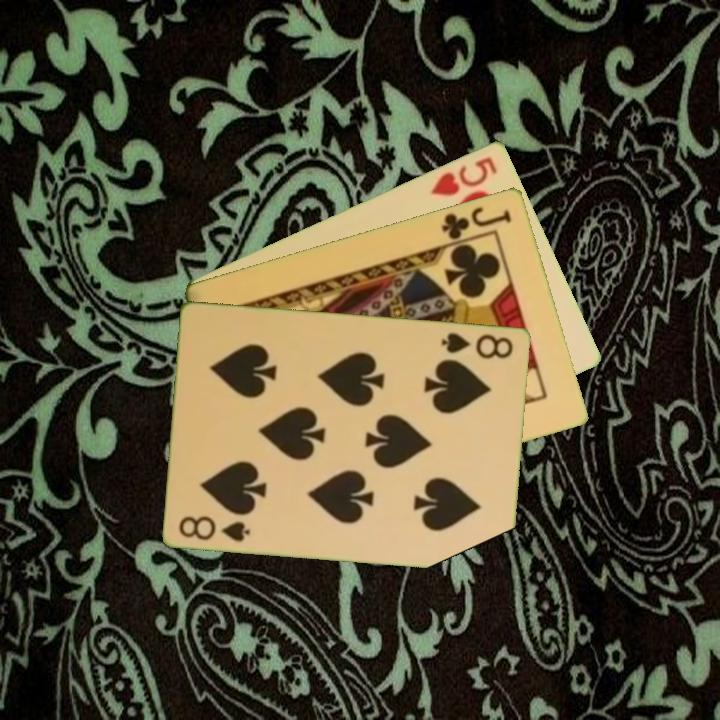5h: (427, 152, 501, 199)
8s: (438, 328, 516, 361), (175, 512, 253, 544)
Jc: (438, 202, 515, 247)
